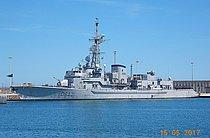MIL_Ship: (9, 16, 200, 100)
